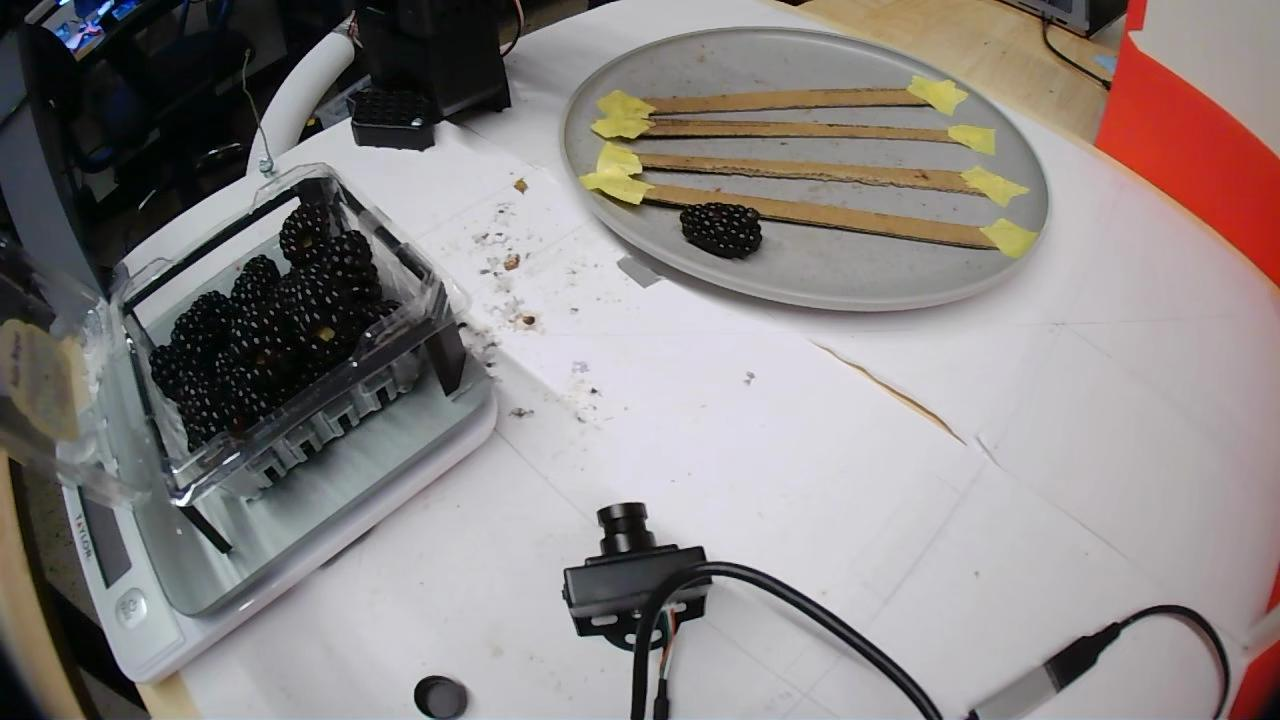berry: (272, 266, 356, 379), (232, 298, 295, 392), (170, 291, 234, 373), (680, 203, 762, 259), (182, 394, 242, 447), (280, 202, 329, 262), (222, 371, 268, 431), (314, 230, 372, 277), (231, 254, 280, 305), (332, 263, 381, 302), (347, 301, 398, 338), (150, 345, 183, 401), (215, 346, 237, 381)
